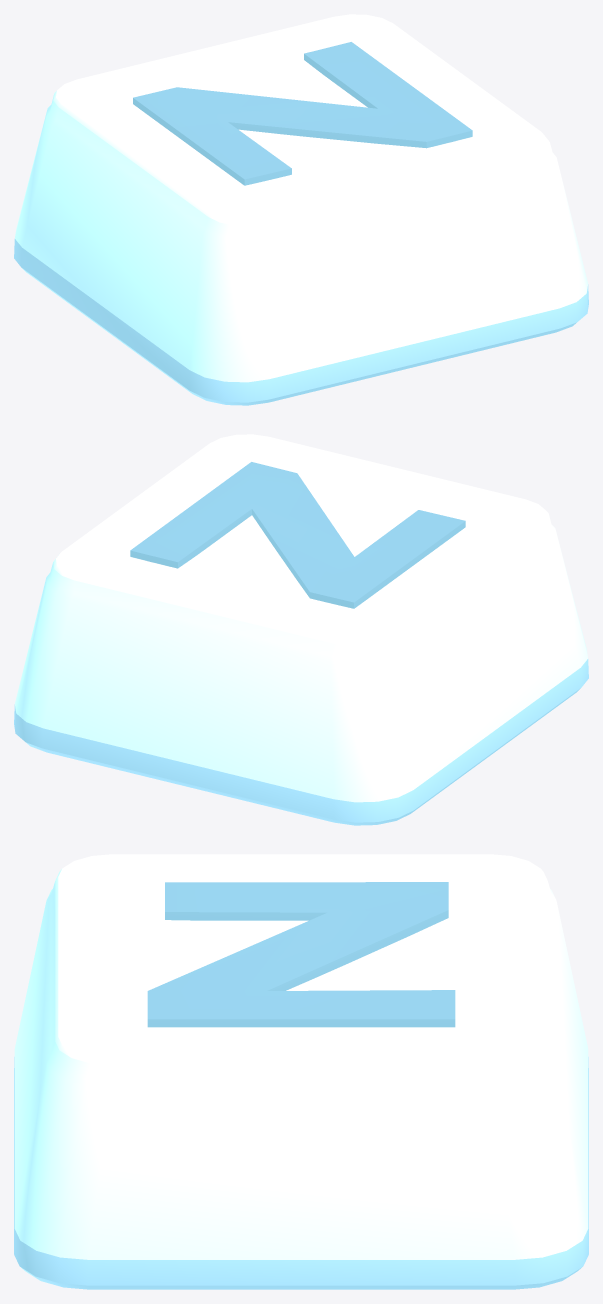
File: props__Key_Z.glb
3 renders of one model, top to bottom at view 1: azimuth 30°, elevation 25°; view 2: azimuth 150°, elevation 25°; view 3: azimuth 270°, elevation 25°, orthographic. The views are drawn at different scales.
Visible parts, largest first — view 1: Key_Z; view 2: Key_Z; view 3: Key_Z.
Part boxes in pixels (left/top/right/bottom): Key_Z: left=14, top=14, right=588, bottom=405; Key_Z: left=14, top=434, right=588, bottom=825; Key_Z: left=14, top=854, right=588, bottom=1289.
Size of the model in its own units: 3.9 by 1.65 by 3.9.
